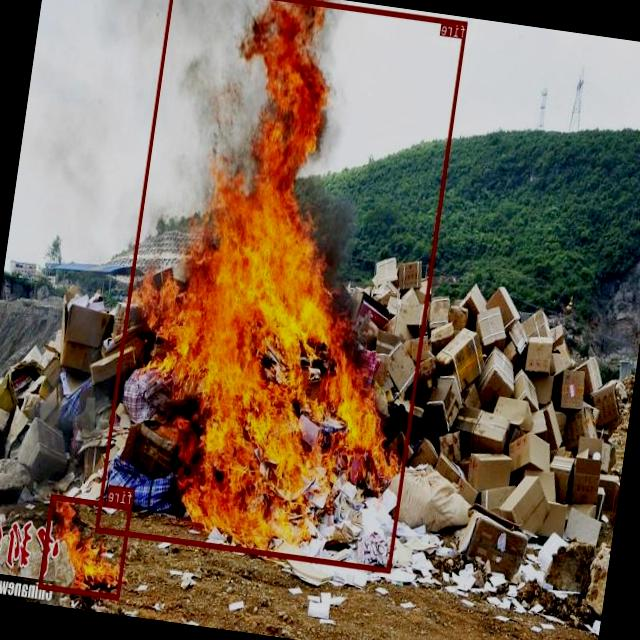fire: (95, 0, 468, 573), (39, 494, 132, 599)
